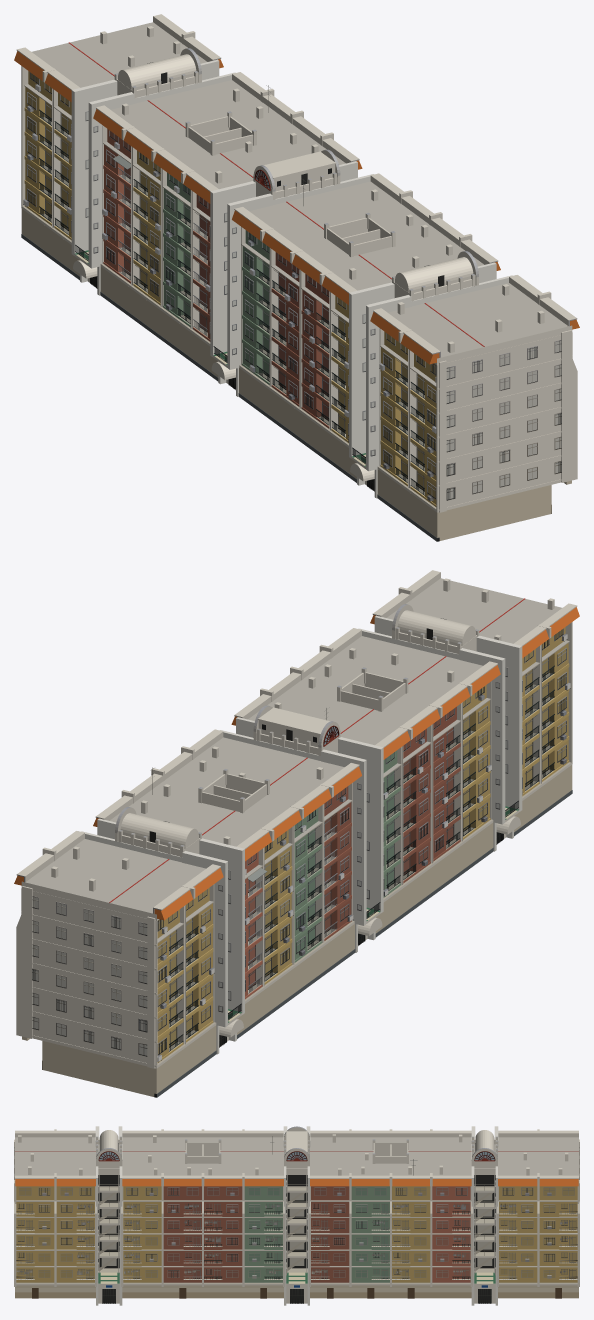
File: SM_Estate_NW.glb
3 views of the same model, one above another, from view 1: azimuth 30°, elevation 25°; view 2: azimuth 150°, elevation 25°; view 3: azimuth 270°, elevation 25° (orthographic). The views are drawn at different scales.
Visible parts, largest first — view 1: SM_Estate_NW_LM0, SM_Estate_NW_LM1, SM_Estate_NW_VC, SM_Estate_NW_NB; view 2: SM_Estate_NW_LM1, SM_Estate_NW_LM0, SM_Estate_NW_VC, SM_Estate_NW_NB; view 3: SM_Estate_NW_LM1, SM_Estate_NW_LM0, SM_Estate_NW_VC, SM_Estate_NW_NB.
Boxes of the visible parts, <box> form: SM_Estate_NW_LM0: <box>218,150,579,541</box>; SM_Estate_NW_LM1: <box>14,14,362,389</box>; SM_Estate_NW_VC: <box>23,48,577,541</box>; SM_Estate_NW_NB: <box>28,84,558,498</box>; SM_Estate_NW_LM1: <box>14,707,382,1097</box>; SM_Estate_NW_LM0: <box>231,570,579,940</box>; SM_Estate_NW_VC: <box>16,604,570,1097</box>; SM_Estate_NW_NB: <box>35,641,565,1054</box>; SM_Estate_NW_LM1: <box>284,1126,579,1305</box>; SM_Estate_NW_LM0: <box>14,1126,309,1305</box>; SM_Estate_NW_VC: <box>14,1126,579,1303</box>; SM_Estate_NW_NB: <box>18,1152,575,1276</box>.
Bounding box in the file's own units: 19.38 × 25.7 × 90.79.
